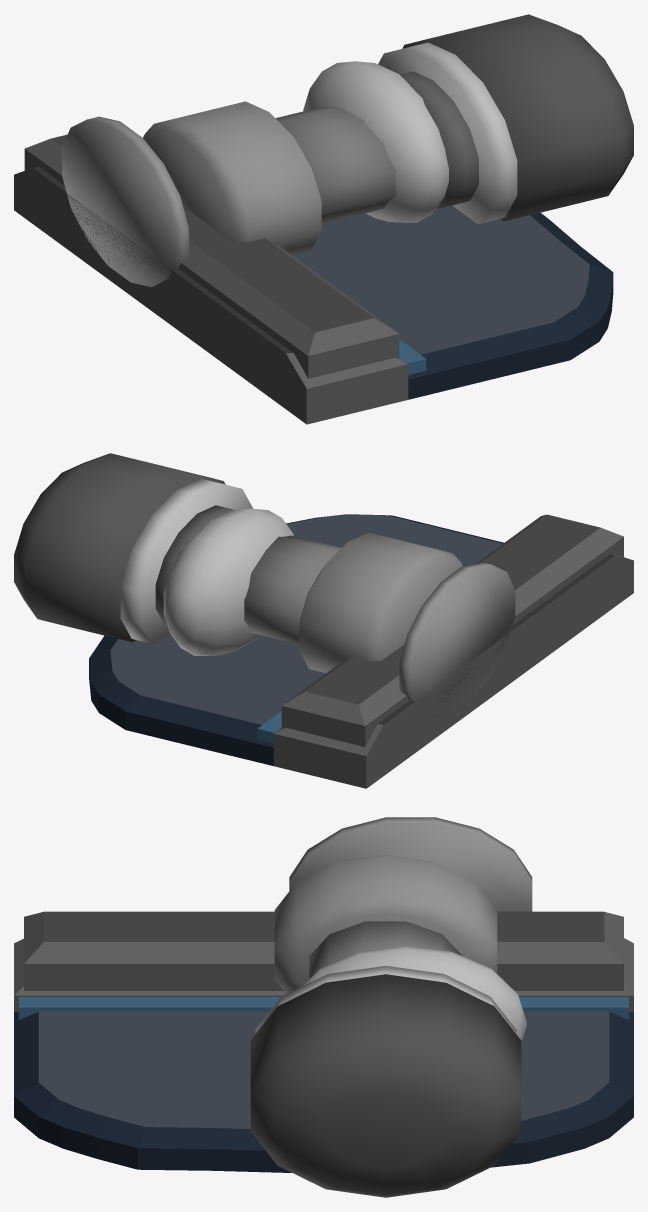
File: newshv-16.glb
The picture shows the model from 3 angles, top to bottom: view 1: azimuth 30°, elevation 25°; view 2: azimuth 150°, elevation 25°; view 3: azimuth 270°, elevation 25°; orthographic projection. The views are drawn at different scales.
Parts seen in each view (by area): view 1: newshv-16; view 2: newshv-16; view 3: newshv-16.
Part boxes in pixels (<box>): newshv-16: <box>14,14,633,424</box>; newshv-16: <box>14,453,633,788</box>; newshv-16: <box>14,817,633,1197</box>.
Size of the model in its own units: 1.89 by 0.6473 by 2.08.
